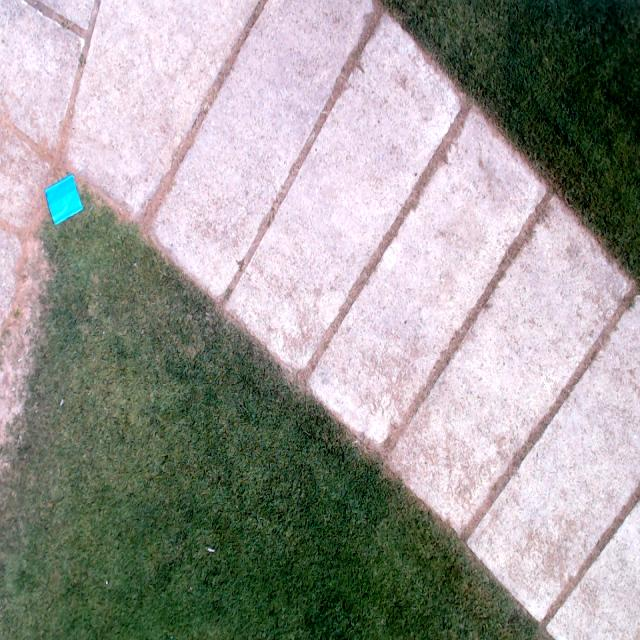blue_square: (44, 172, 84, 227)
